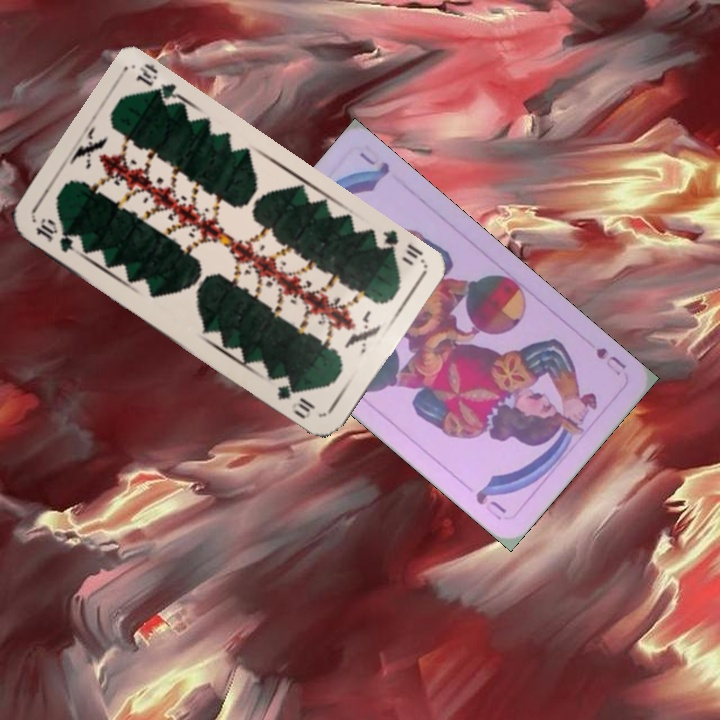G10: (370, 226, 427, 266), (31, 214, 82, 257)
SU: (591, 343, 629, 379)
